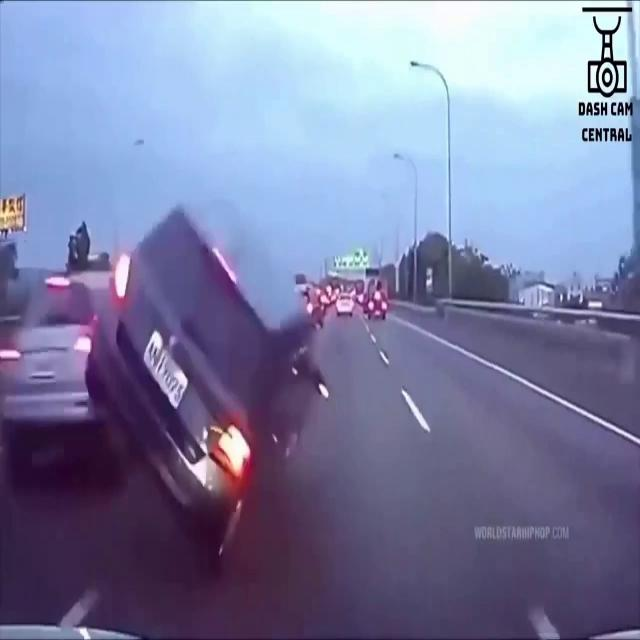accident: (1, 210, 320, 537)
